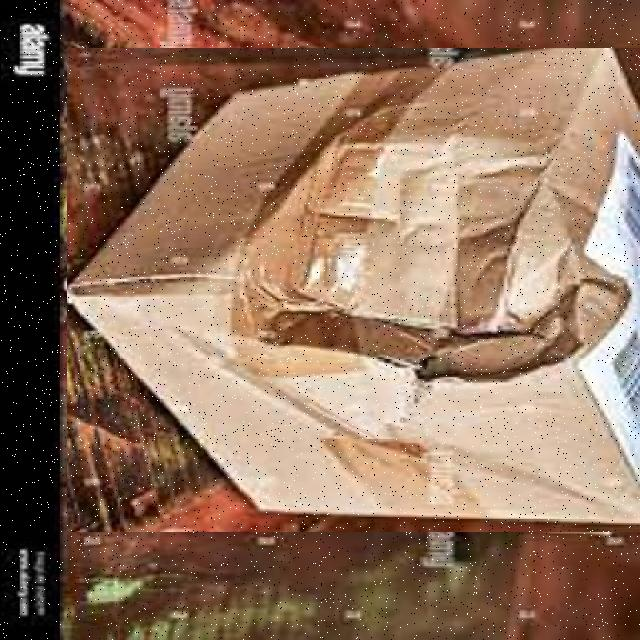defect: (66, 48, 639, 532)
